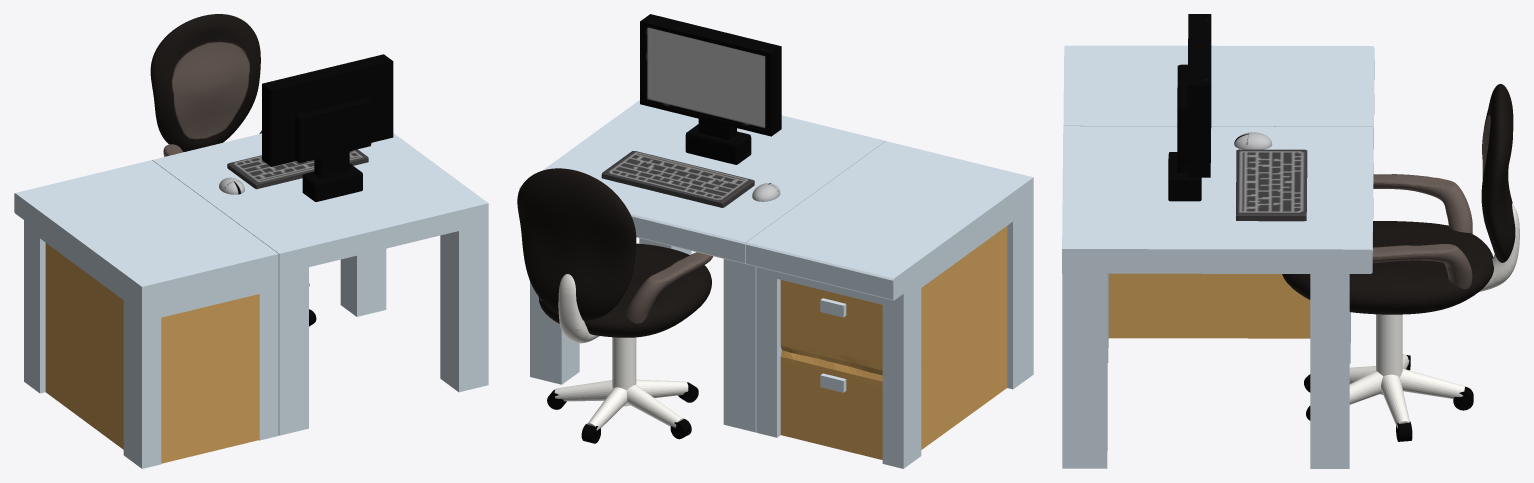
Rendered from Back facing desk + extra.glb.
3 renders of one model, left to right at view 1: azimuth 30°, elevation 25°; view 2: azimuth 150°, elevation 25°; view 3: azimuth 270°, elevation 25°, orthographic. The views are drawn at different scales.
Visible parts, largest first — view 1: Box, Ctop, Top, Legs, Frame, Wheels, Box 3, Box 4, Keyboard; view 2: Box, Wheels, Ctop, Top, Frame, Box 3, Legs, Keyboard, Box 4, Handles; view 3: Top, Wheels, Ctop, Legs, Box, Keyboard, Box 3, Box 4, Mouse.
Part boxes in pixels (x1,y1,x2,y2): Box: (45,243,258,463); Ctop: (14,160,278,307); Top: (152,133,488,273); Legs: (278,223,488,435); Frame: (24,220,278,468); Wheels: (150,14,316,326); Box 3: (262,54,393,166); Box 4: (295,98,371,201); Keyboard: (227,149,368,189); Box: (780,226,1007,459); Wheels: (517,168,712,443); Ctop: (745,141,1033,300); Top: (519,100,885,264); Frame: (756,199,1033,468); Box 3: (640,14,781,136); Legs: (530,238,756,432); Keyboard: (601,151,754,207); Box 4: (685,119,751,164); Handles: (820,298,846,392); Top: (1062,126,1373,273); Wheels: (1282,84,1519,441); Ctop: (1063,45,1374,127); Legs: (1062,273,1350,468); Box: (1108,273,1310,338); Keyboard: (1236,149,1307,221); Box 3: (1187,14,1211,177); Box 4: (1168,64,1201,201); Mouse: (1234,132,1272,149).
Bounding box in the file's own units: 1.42 × 1.16 × 1.35.
